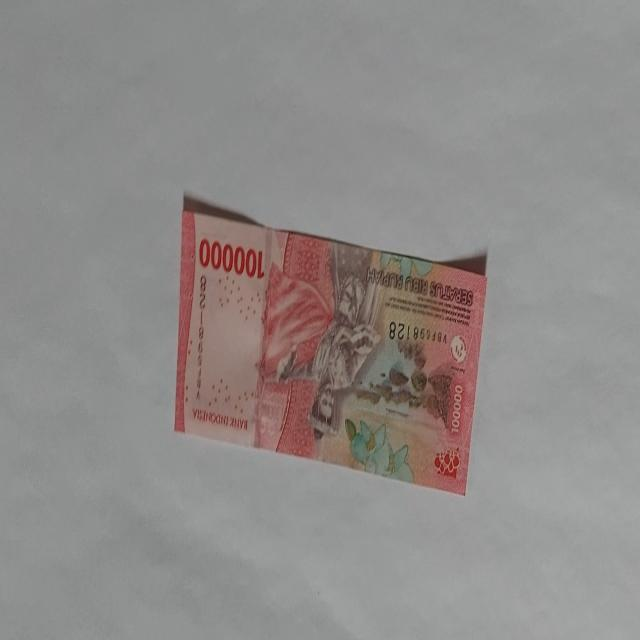seratus ribu rupiah: (173, 197, 488, 496)
